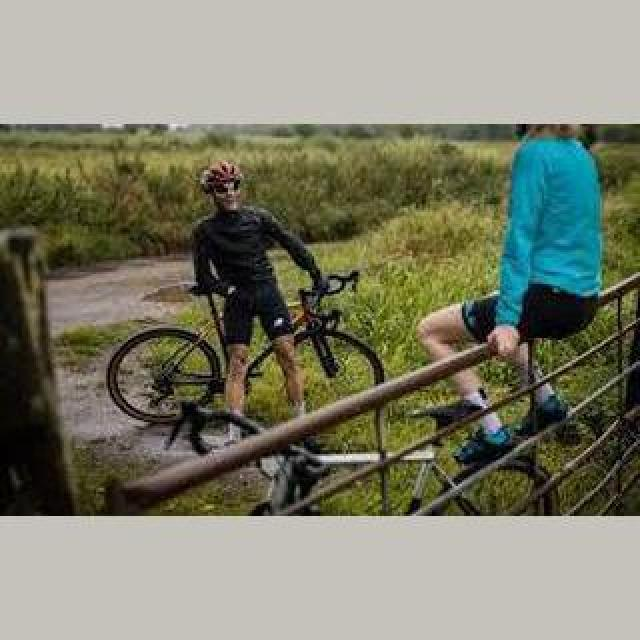MC-Bike: (410, 122, 608, 430), (192, 162, 326, 424)
Person: (107, 275, 391, 443), (165, 398, 561, 516)
